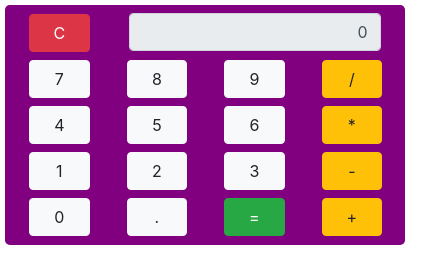
Scenario: Calculadora › deve limpar campo de numeros.
Click the button "2".
click(157, 171)  # box [126,152,187,190]
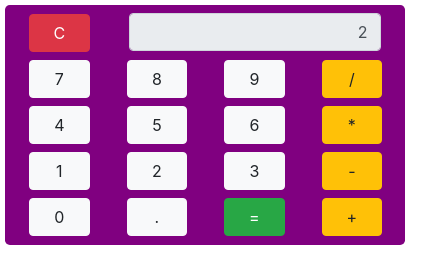
Click the button "C".
click(59, 33)  # box [29,14,90,52]
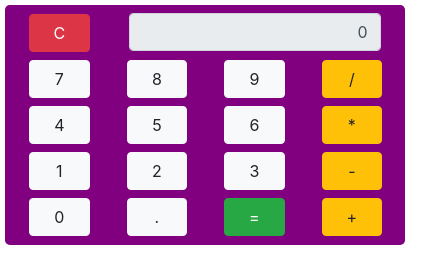
Result: the field with test id "textnumber" holds "0" at [128,13,380,51]
